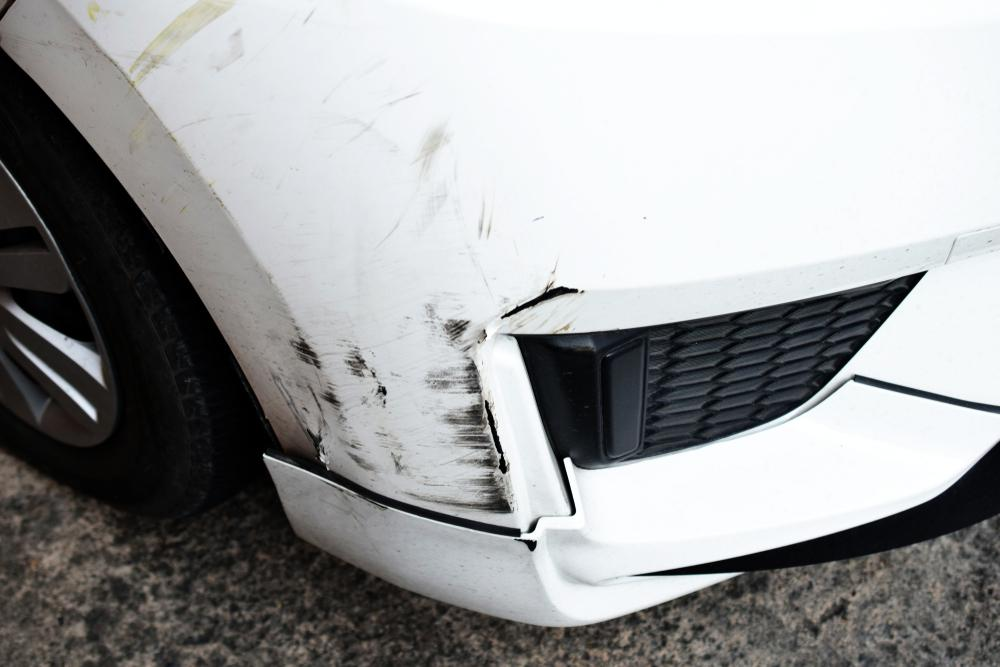scratch: (279, 275, 591, 520), (338, 73, 514, 262)
